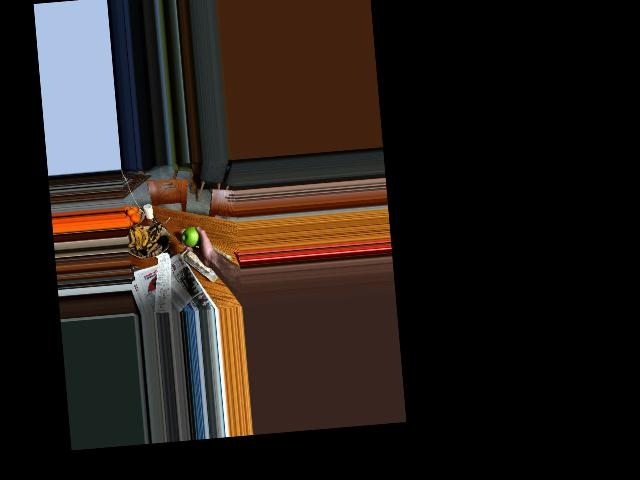apple: (182, 224, 203, 249)
